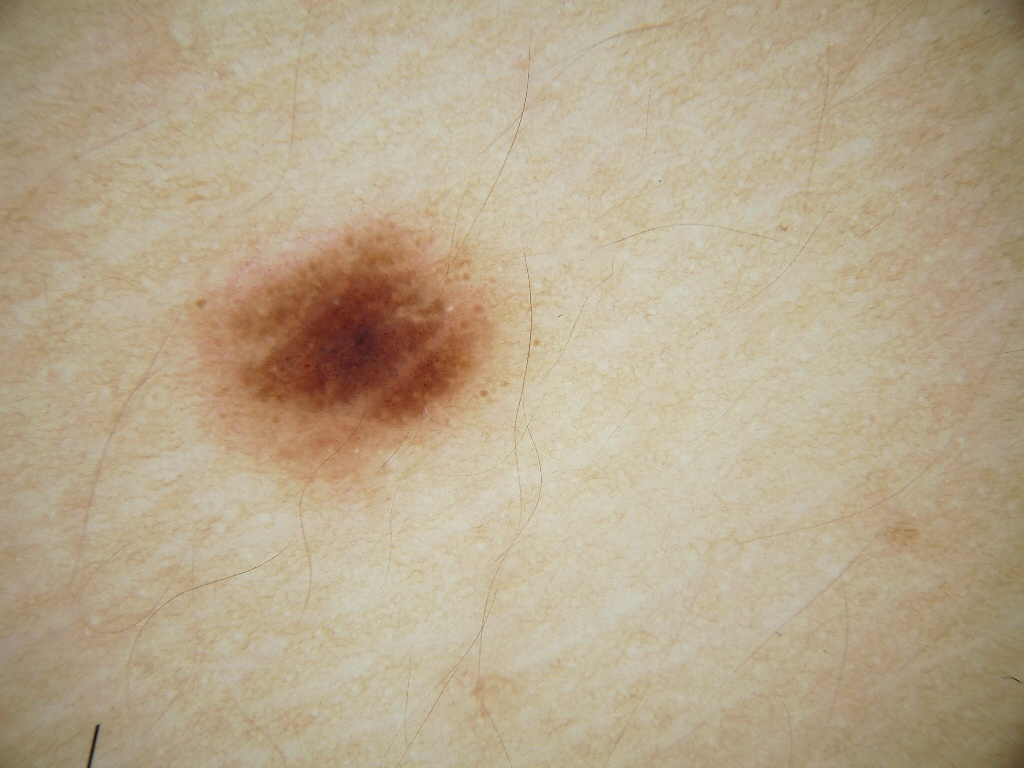Detected Lesion: (192, 207, 505, 476)
